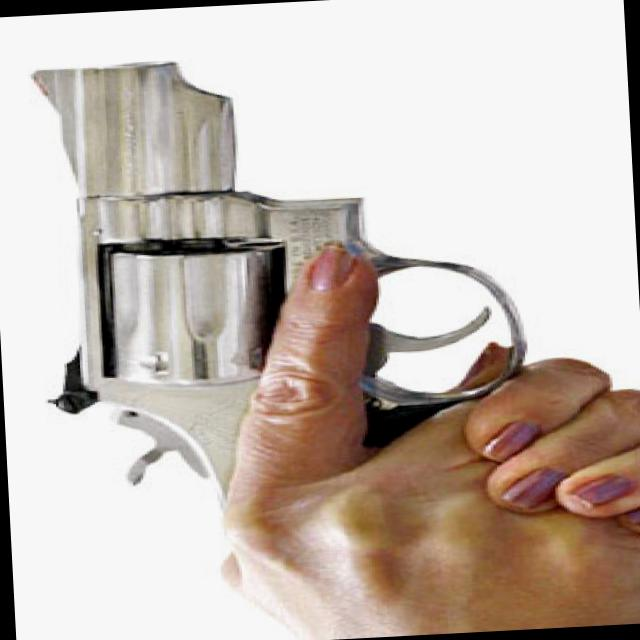handgun: (25, 40, 531, 537)
